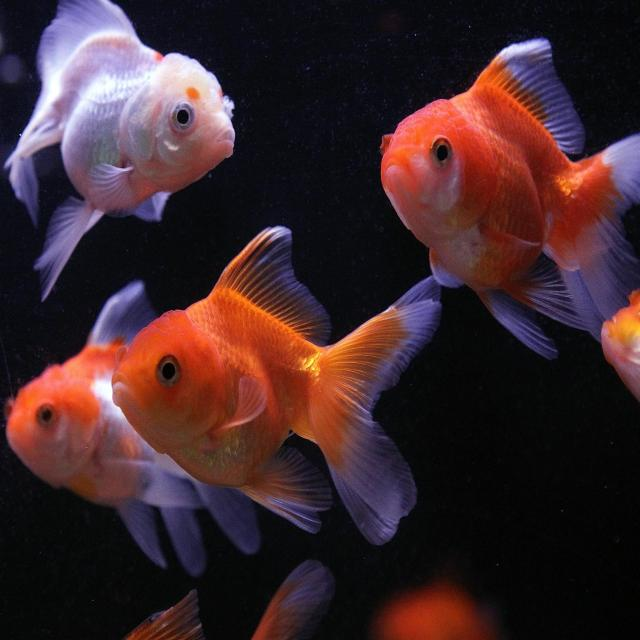GoldFish: (116, 226, 418, 534), (379, 35, 640, 355), (0, 0, 238, 301), (2, 296, 247, 544)
